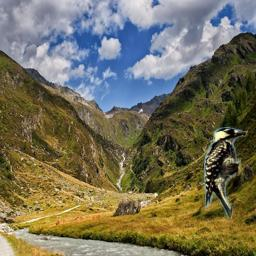Woodpecker: (202, 127, 248, 219)
